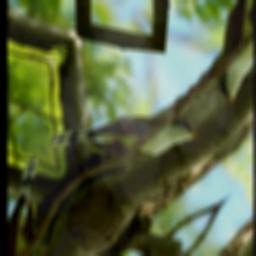Cuckoo: (50, 54, 204, 225)
